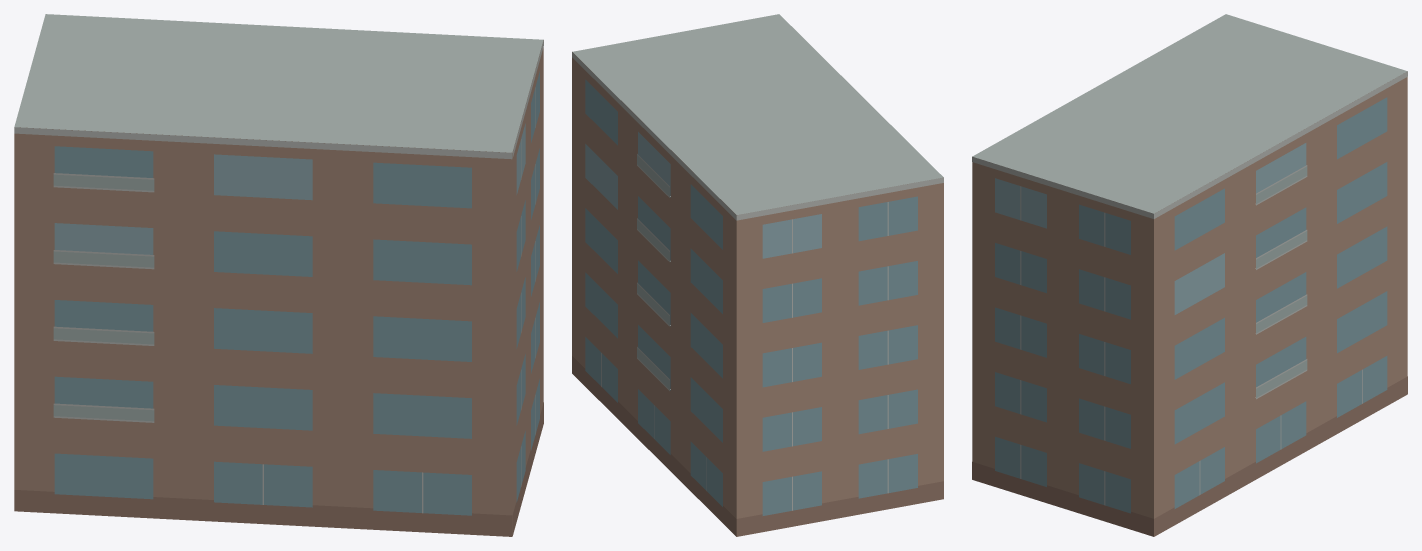
Rendered from survey-upis-32630275.glb.
3 renders of one model, left to right at view 1: azimuth 30°, elevation 25°; view 2: azimuth 150°, elevation 25°; view 3: azimuth 270°, elevation 25°, orthographic. The views are drawn at different scales.
Visible parts, largest first — view 1: survey-upis-32630275.tmp; view 2: survey-upis-32630275.tmp; view 3: survey-upis-32630275.tmp.
Part boxes in pixels (<box>): survey-upis-32630275.tmp: <box>14,14,543,536</box>; survey-upis-32630275.tmp: <box>572,14,943,536</box>; survey-upis-32630275.tmp: <box>972,14,1407,536</box>.
Size of the model in its own units: 19.23 by 14.5 by 17.72.
